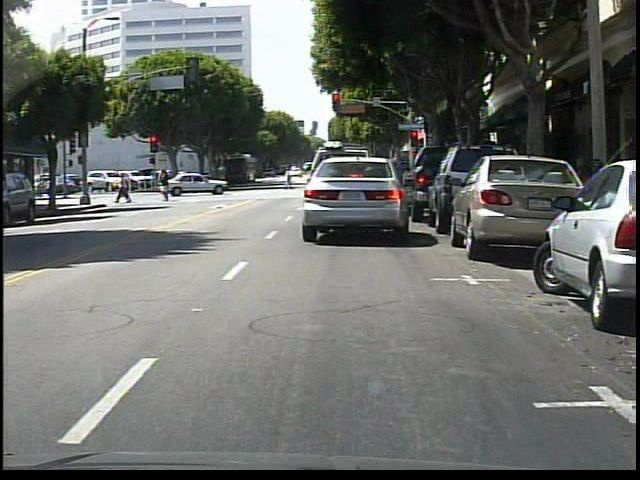person: (115, 173, 132, 205), (161, 170, 174, 202), (284, 166, 294, 190)
